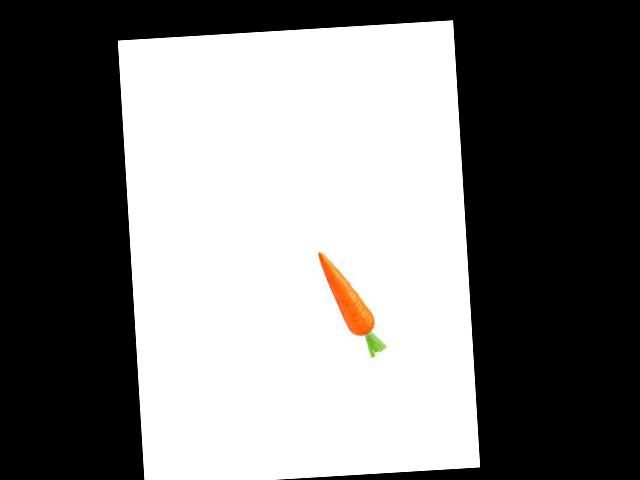carrot: (313, 247, 375, 340)
